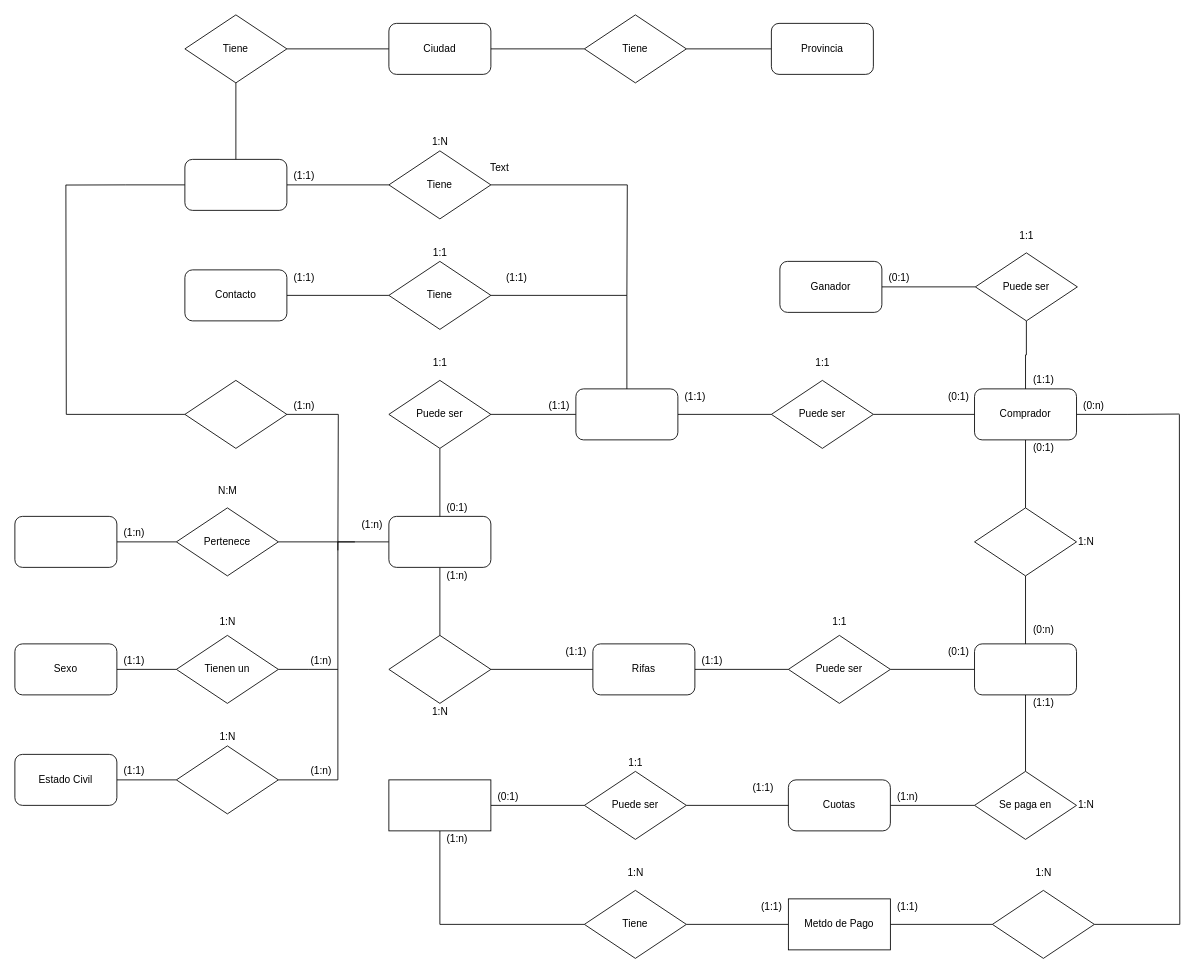
Some shapes in this 1196 by 973 pixel diagram are drawn without their labels. Each missing label, with the centre of its shape:
"Afiliados" goes at (439,541).
"Compra" goes at (1025,541).
"cuataPagada" goes at (439,805).
"Domicilio" goes at (235,184).
"Grupo" goes at (65,541).
"Persona" goes at (626,414).
"Rifa Vendida" goes at (1025,669).
"Tiene (procedencia)" goes at (235,414).
"Tiene un preferido" goes at (1043,924).
"Tienen" goes at (227,779).
"Vende" goes at (439,669).
